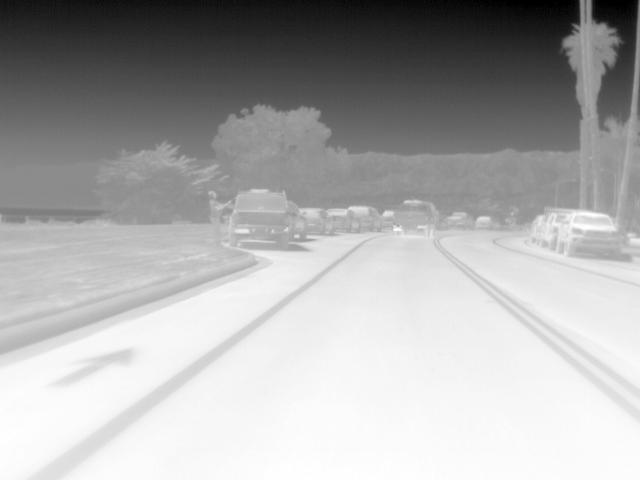car: (229, 188, 291, 250), (558, 210, 626, 260), (390, 200, 435, 234), (299, 207, 335, 236), (326, 206, 360, 234), (349, 206, 383, 234), (543, 212, 567, 247), (287, 201, 306, 235), (445, 209, 475, 229), (474, 214, 502, 232), (530, 214, 543, 242)
person: (208, 188, 232, 248)
